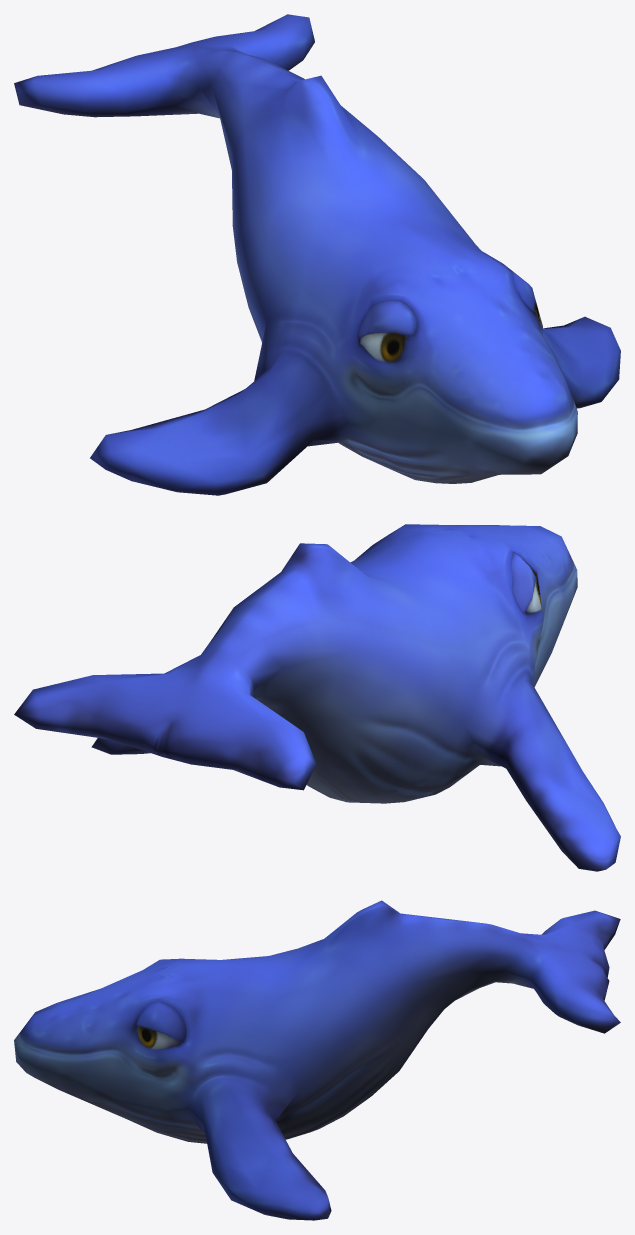
Rendered from whale.fbx.
3 renders of one model, top to bottom at view 1: azimuth 30°, elevation 25°; view 2: azimuth 150°, elevation 25°; view 3: azimuth 270°, elevation 25°, orthographic. The views are drawn at different scales.
Parts seen in each view (by area): view 1: whaleGeo; view 2: whaleGeo; view 3: whaleGeo.
Boxes of the visible parts, left/top/right/bottom form: whaleGeo: left=14, top=14, right=620, bottom=495; whaleGeo: left=14, top=524, right=620, bottom=871; whaleGeo: left=14, top=900, right=620, bottom=1220.
Size of the model in its own units: 1257 by 723 by 1697.
Materials: 1 (1 with a texture image).
